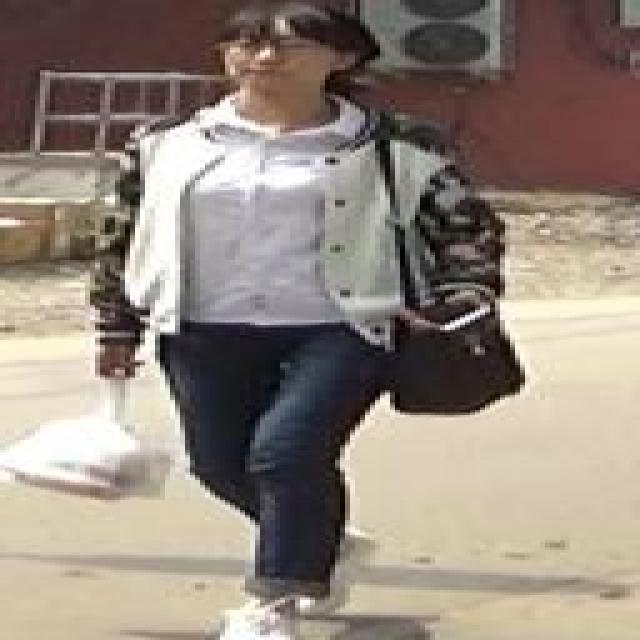adult: (74, 7, 492, 640)
